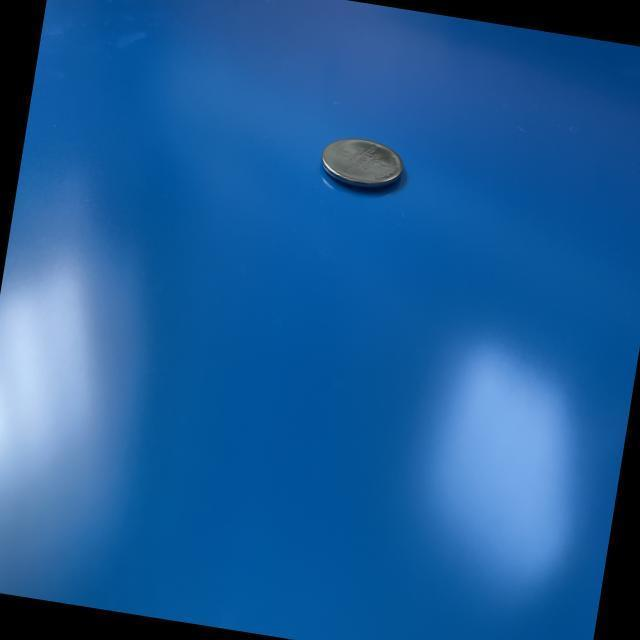COIN: (316, 127, 410, 200)
